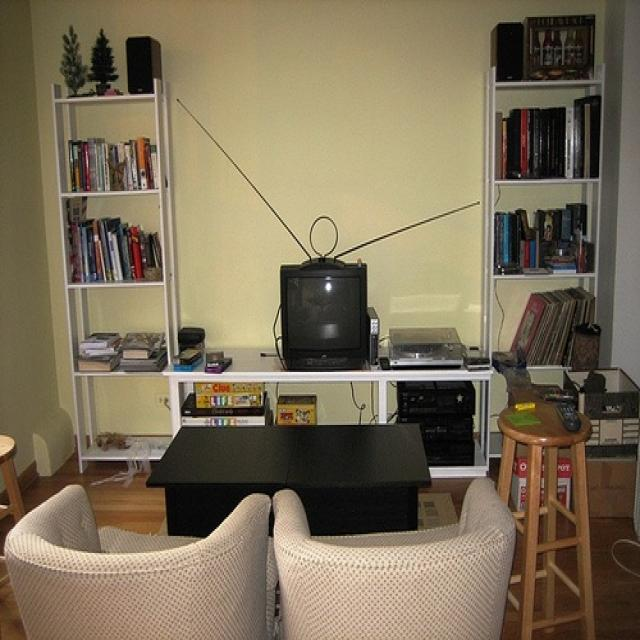chair: (10, 483, 273, 637), (272, 488, 514, 638)
tvmonitor: (279, 260, 370, 368)
